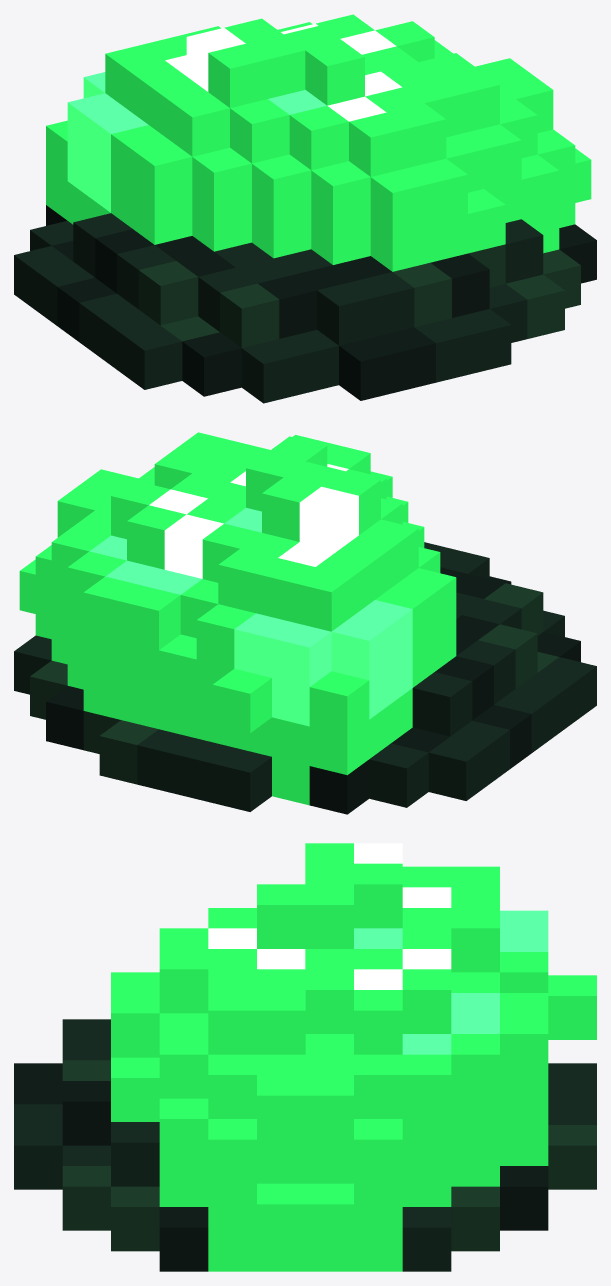
File: moss_clump_emerald.glb
The picture shows the model from 3 angles, top to bottom: view 1: azimuth 30°, elevation 25°; view 2: azimuth 150°, elevation 25°; view 3: azimuth 270°, elevation 25°; orthographic projection. The views are drawn at different scales.
Visible parts, largest first — view 1: moss; view 2: moss; view 3: moss.
Boxes of the visible parts, box(x1,y1,x2,y2) form: moss: box(14, 14, 596, 403); moss: box(14, 432, 596, 814); moss: box(14, 843, 596, 1271).
Bounding box in the file's own units: 0.8125 × 0.375 × 0.75.
Materials: 1 (1 with a texture image).
